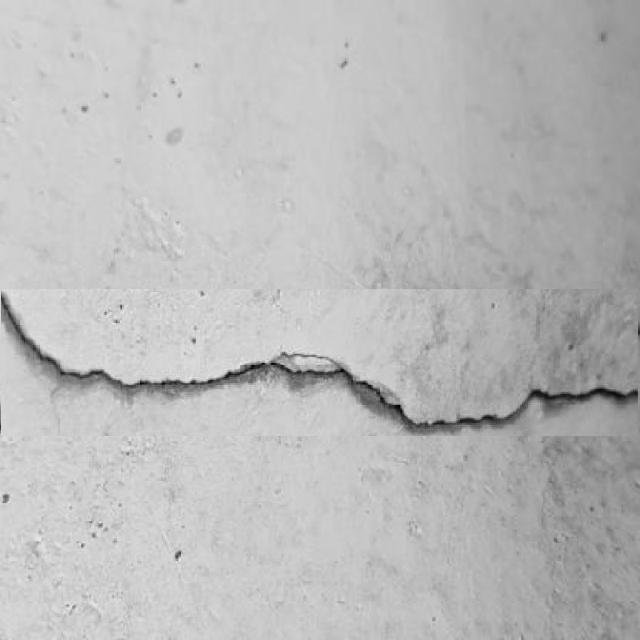Crack: (0, 284, 639, 432)
